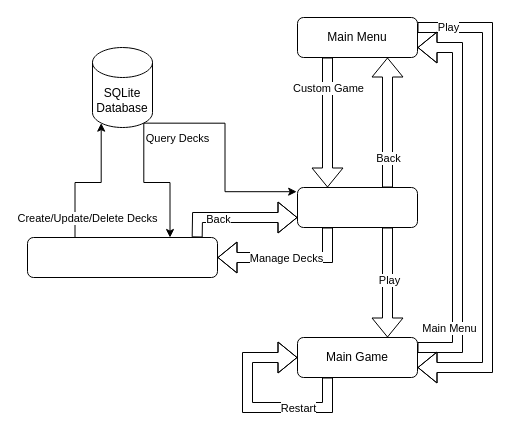
The diagram is 510 pixels wide and 432 high, and some of its shapes have lost their labels. The shapes that lost their labels are listed below. From the top down, each one's centre as x and y in pixels, then its label:
At (x=357, y=207): "Custom Game Setup".
At (x=122, y=257): "Deck Customizer".
